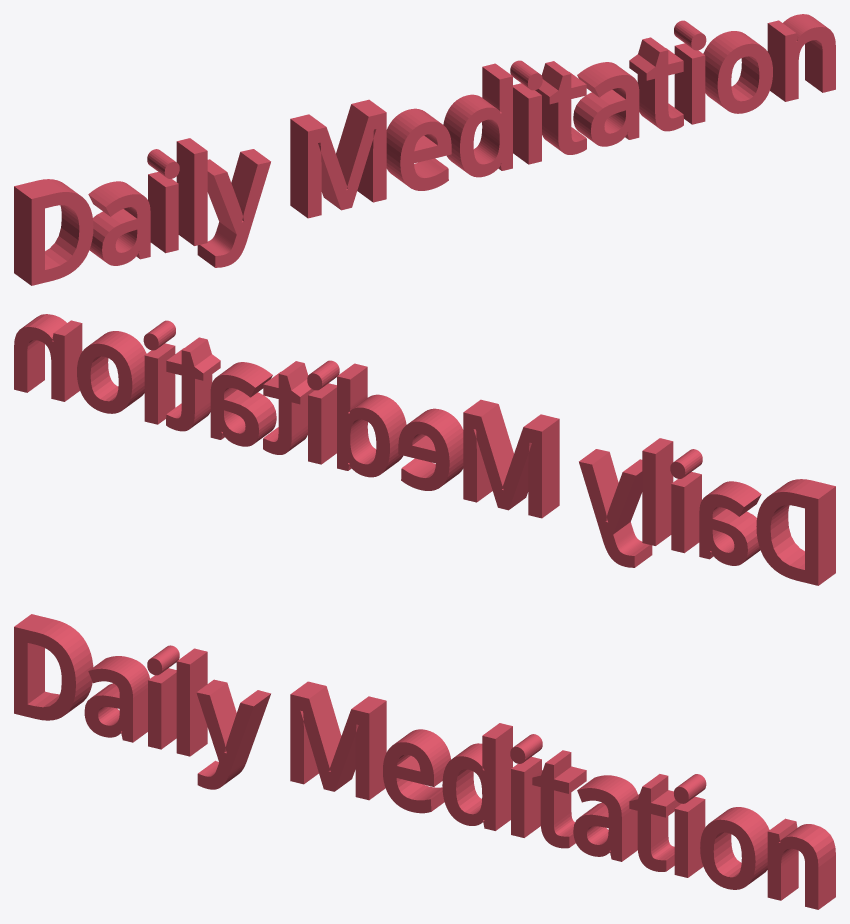
Rendered from DailyMeditation.fbx.
3 views of the same model, one above another, from view 1: azimuth 30°, elevation 25°; view 2: azimuth 150°, elevation 25°; view 3: azimuth 330°, elevation 25° (orthographic).
Visible parts, largest first — view 1: tinker:group_0_15277357; view 2: tinker:group_0_15277357; view 3: tinker:group_0_15277357.
Boxes of the visible parts, x1,y1,x2,y2 form: tinker:group_0_15277357: (14,14,835,285); tinker:group_0_15277357: (14,314,835,585); tinker:group_0_15277357: (14,614,835,909).
Size of the model in its own units: 200 by 28.63 by 7.56.
